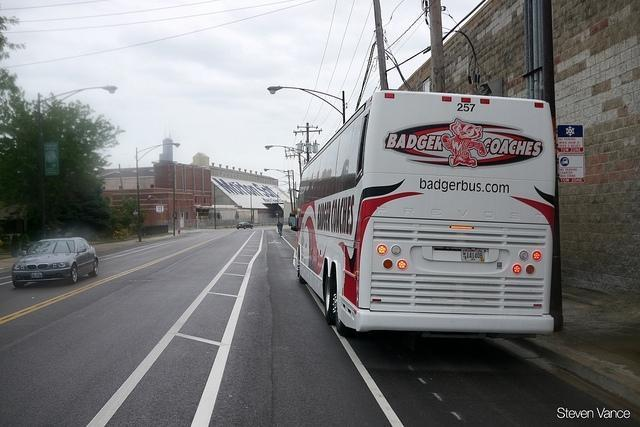bus: (286, 89, 563, 337)
car: (11, 238, 101, 289), (236, 222, 254, 230)
